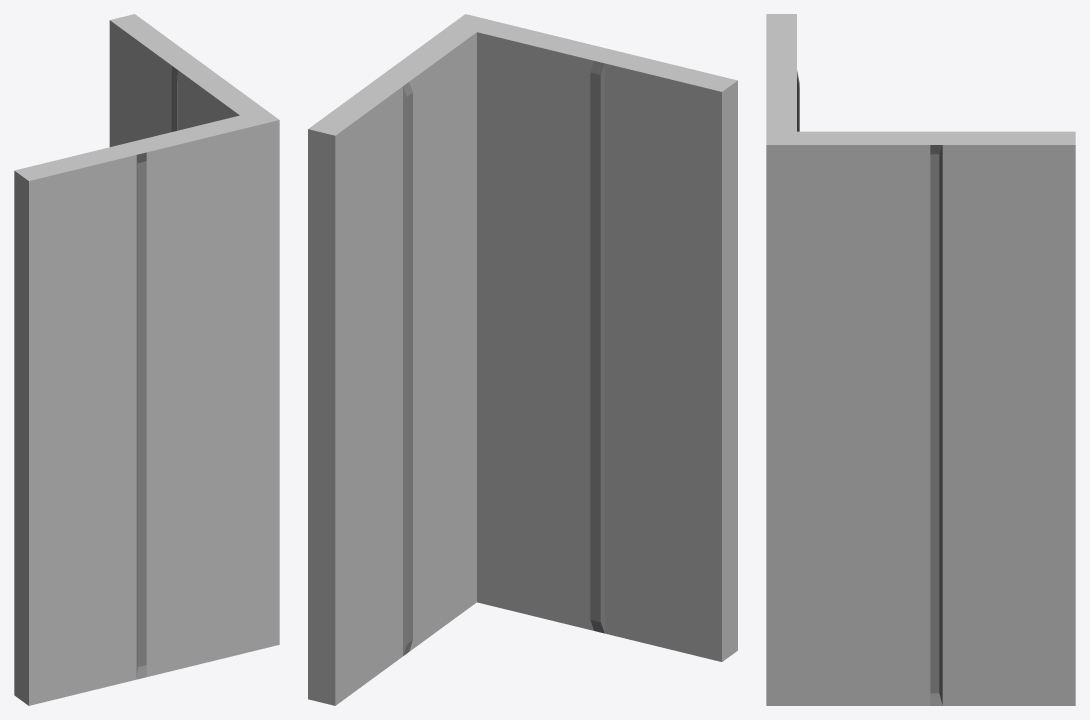
Rendered from ConcreteCorner.fbx.
3 renders of one model, left to right at view 1: azimuth 30°, elevation 25°; view 2: azimuth 150°, elevation 25°; view 3: azimuth 270°, elevation 25°, orthographic. The views are drawn at different scales.
Parts seen in each view (by area): view 1: ConcreteCorner; view 2: ConcreteCorner; view 3: ConcreteCorner.
Boxes of the visible parts, x1=… form: ConcreteCorner: x1=14, y1=14, x2=279, y2=705; ConcreteCorner: x1=308, y1=14, x2=737, y2=705; ConcreteCorner: x1=766, y1=14, x2=1075, y2=705.
Size of the model in its own units: 100 by 200 by 100.
